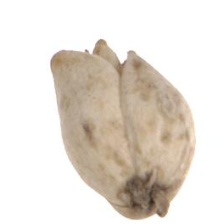L1: (49, 38, 136, 69), (112, 188, 186, 220)
L2: (49, 39, 195, 219)
